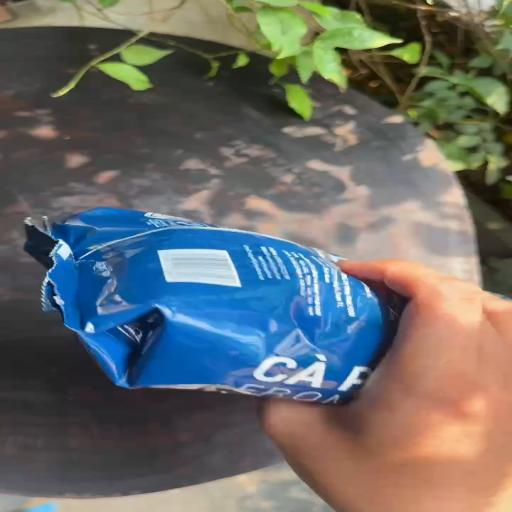cafe_hat: (25, 208, 403, 404)
